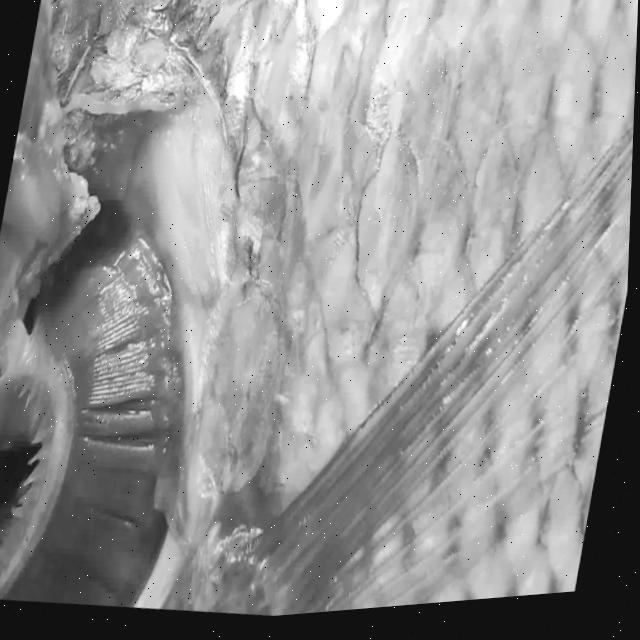Non-Fresh: (0, 205, 245, 626)
